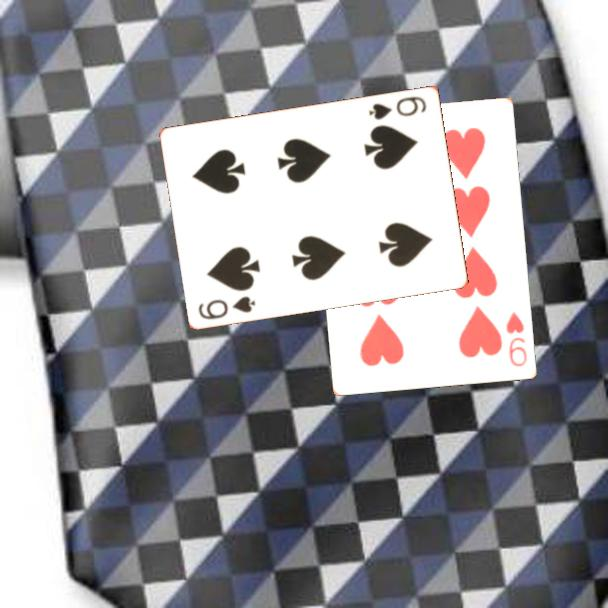h09: (503, 308, 530, 370)
s06: (365, 92, 429, 122), (195, 292, 259, 322)
